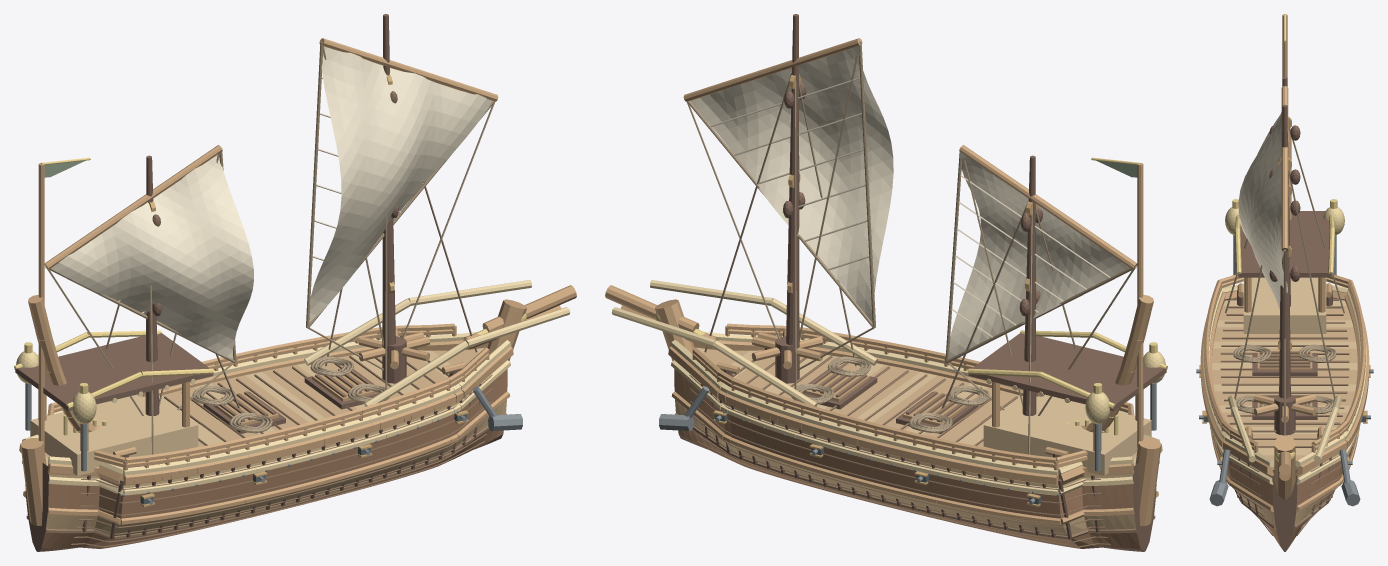
File: oman_boom-v5.glb
3 views of the same model, side by side, from view 1: azimuth 30°, elevation 25°; view 2: azimuth 150°, elevation 25°; view 3: azimuth 270°, elevation 25° (orthographic). The views are drawn at different scales.
Visible parts, largest first — view 1: oman_boom_sails_sail, oman_boom_hull_wood, oman_boom_hull_hull2, oman_boom_hull_seam, oman_boom_hull_pale, oman_boom_railings_wood, oman_boom_deck_decklight, oman_boom_deck_darkwood, oman_boom_hull_deck, oman_boom_hull_pine, oman_boom_rigging_rope, oman_boom_ornament_pale (+14 smaller); view 2: oman_boom_sails_sail, oman_boom_hull_wood, oman_boom_hull_hull2, oman_boom_hull_seam, oman_boom_hull_pale, oman_boom_railings_wood, oman_boom_deck_decklight, oman_boom_deck_darkwood, oman_boom_rigging_rope, oman_boom_masts_darkwood, oman_boom_hull_deck, oman_boom_hull_pine (+16 smaller); view 3: oman_boom_hull_deck, oman_boom_sails_sail, oman_boom_hull_wood, oman_boom_hull_seam, oman_boom_deck_decklight, oman_boom_hull_decklight, oman_boom_deck_darkwood, oman_boom_railings_wood, oman_boom_hull_pale, oman_boom_masts_darkwood, oman_boom_hull_hull2, oman_boom_fittings_darkwood (+16 smaller).
Boxes of the visible parts, <box> form: oman_boom_sails_sail: <box>52,46,492,358</box>; oman_boom_hull_wood: <box>19,299,561,525</box>; oman_boom_hull_hull2: <box>41,369,507,548</box>; oman_boom_hull_seam: <box>26,355,507,547</box>; oman_boom_hull_pale: <box>22,331,510,495</box>; oman_boom_railings_wood: <box>47,323,489,479</box>; oman_boom_deck_decklight: <box>30,394,198,475</box>; oman_boom_deck_darkwood: <box>15,333,213,411</box>; oman_boom_hull_deck: <box>45,349,478,467</box>; oman_boom_hull_pine: <box>45,347,506,536</box>; oman_boom_rigging_rope: <box>45,41,495,415</box>; oman_boom_ornament_pale: <box>304,280,570,406</box>; oman_boom_sails_sail: <box>690,45,1129,358</box>; oman_boom_hull_wood: <box>620,299,1162,525</box>; oman_boom_hull_hull2: <box>674,369,1140,548</box>; oman_boom_hull_seam: <box>674,355,1155,547</box>; oman_boom_hull_pale: <box>671,331,1159,495</box>; oman_boom_railings_wood: <box>692,323,1134,479</box>; oman_boom_deck_decklight: <box>983,394,1151,475</box>; oman_boom_deck_darkwood: <box>968,333,1166,411</box>; oman_boom_rigging_rope: <box>686,41,1136,415</box>; oman_boom_masts_darkwood: <box>783,14,1043,415</box>; oman_boom_hull_deck: <box>703,349,1136,467</box>; oman_boom_hull_pine: <box>675,347,1136,536</box>; oman_boom_hull_deck: <box>1212,306,1357,460</box>; oman_boom_sails_sail: <box>1238,112,1287,309</box>; oman_boom_hull_wood: <box>1200,291,1369,511</box>; oman_boom_hull_seam: <box>1213,298,1356,535</box>; oman_boom_deck_decklight: <box>1243,277,1326,333</box>; oman_boom_hull_decklight: <box>1212,300,1357,455</box>; oman_boom_deck_darkwood: <box>1238,211,1331,277</box>; oman_boom_railings_wood: <box>1204,274,1365,452</box>; oman_boom_hull_pale: <box>1203,285,1366,484</box>; oman_boom_masts_darkwood: <box>1269,77,1300,398</box>; oman_boom_hull_hull2: <box>1216,444,1353,545</box>; oman_boom_fittings_darkwood: <box>1237,290,1332,439</box>.
Bounding box in the file's own units: 60.59 × 48.16 × 19.18.
